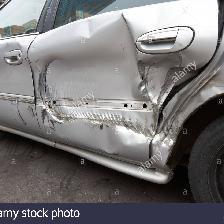dent: (29, 33, 175, 152)
